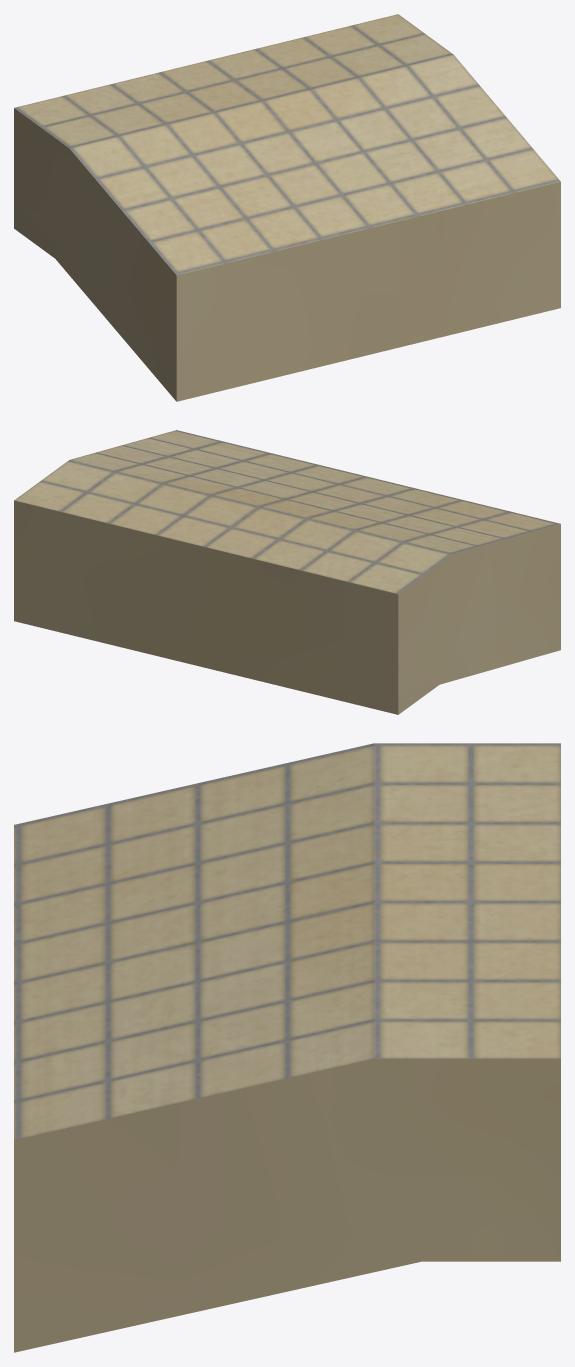
Rendered from set_floor_03_slope_start.fbx.
3 views of the same model, one above another, from view 1: azimuth 30°, elevation 25°; view 2: azimuth 150°, elevation 25°; view 3: azimuth 270°, elevation 25° (orthographic). The views are drawn at different scales.
Visible parts, largest first — view 1: set_floor_03_slope_start; view 2: set_floor_03_slope_start; view 3: set_floor_03_slope_start.
Boxes of the visible parts, x1,y1,x2,y2 form: set_floor_03_slope_start: [14, 14, 560, 401]; set_floor_03_slope_start: [14, 430, 560, 714]; set_floor_03_slope_start: [14, 743, 560, 1352].
Bounding box in the file's own units: 200 × 86.98 × 147.
